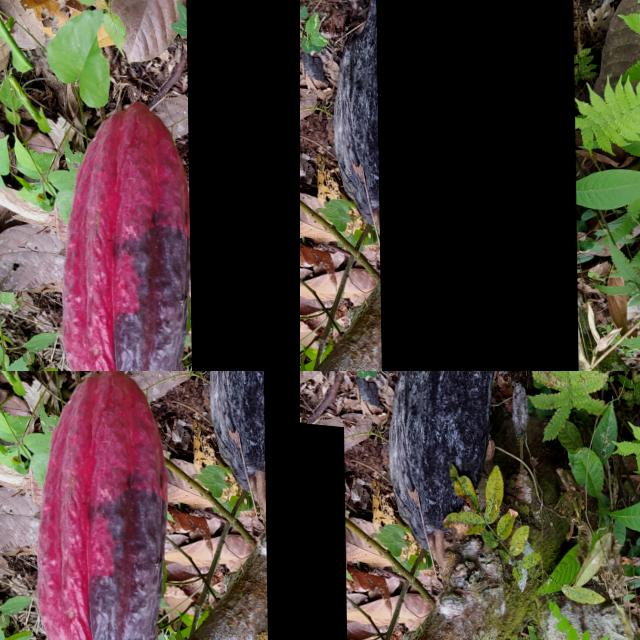Fitoftora: (375, 0, 577, 371), (185, 0, 300, 371), (380, 371, 496, 527), (300, 412, 347, 640)
